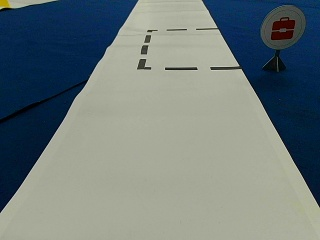company: (260, 4, 306, 48)
